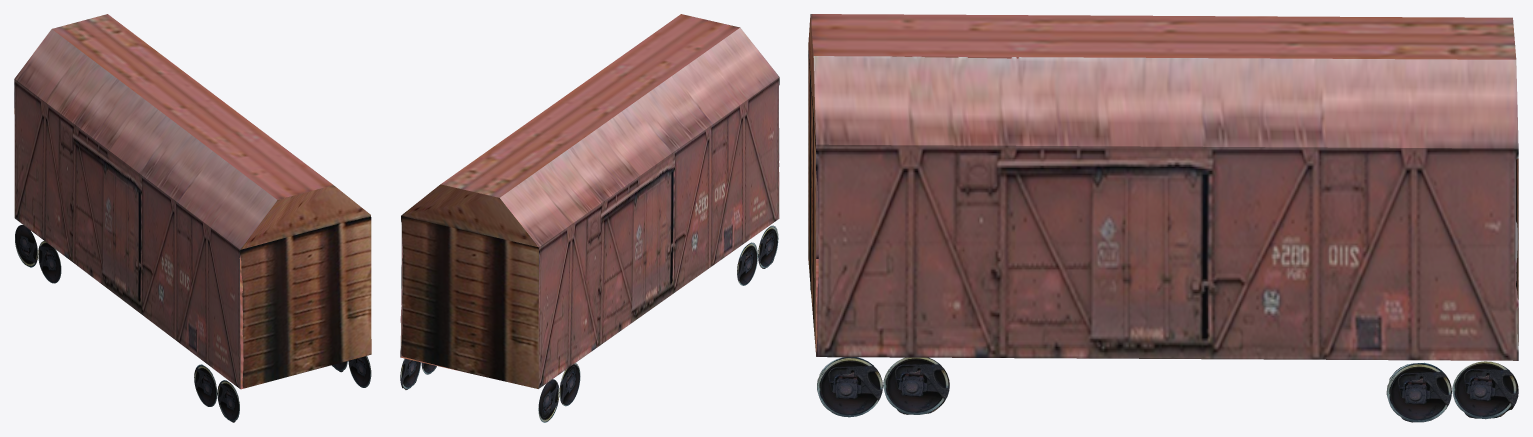
Rendered from cart4.fbx.
3 views of the same model, side by side, from view 1: azimuth 30°, elevation 25°; view 2: azimuth 150°, elevation 25°; view 3: azimuth 270°, elevation 25° (orthographic). The views are drawn at different scales.
Visible parts, largest first — view 1: Cube.006, Circle.028, Circle.031, Circle.030, Circle.029, Circle.026; view 2: Cube.006, Circle.031, Circle.028, Circle.030, Circle.029, Circle.024; view 3: Cube.006, Circle.026, Circle.027, Circle.025, Circle.024.
Boxes of the visible parts, <box> form: Cube.006: <box>14,14,371,389</box>; Circle.028: <box>194,364,217,406</box>; Circle.031: <box>15,225,37,267</box>; Circle.030: <box>38,241,61,283</box>; Circle.029: <box>217,380,239,422</box>; Circle.026: <box>348,356,371,387</box>; Cube.006: <box>400,14,779,388</box>; Circle.031: <box>538,379,559,422</box>; Circle.028: <box>737,242,757,285</box>; Circle.030: <box>559,363,580,406</box>; Circle.029: <box>758,225,778,268</box>; Circle.024: <box>400,358,420,389</box>; Cube.006: <box>808,14,1518,360</box>; Circle.026: <box>817,357,882,417</box>; Circle.027: <box>883,357,949,414</box>; Circle.025: <box>1386,362,1451,422</box>; Circle.024: <box>1452,361,1518,419</box>.
Size of the model in its own units: 756 by 1103 by 2126.
Materials: 1 (1 with a texture image).
